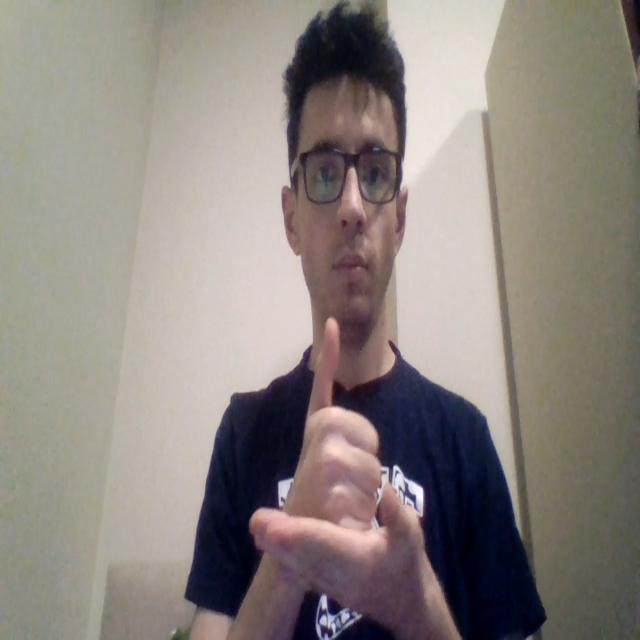help: (253, 319, 427, 607)
